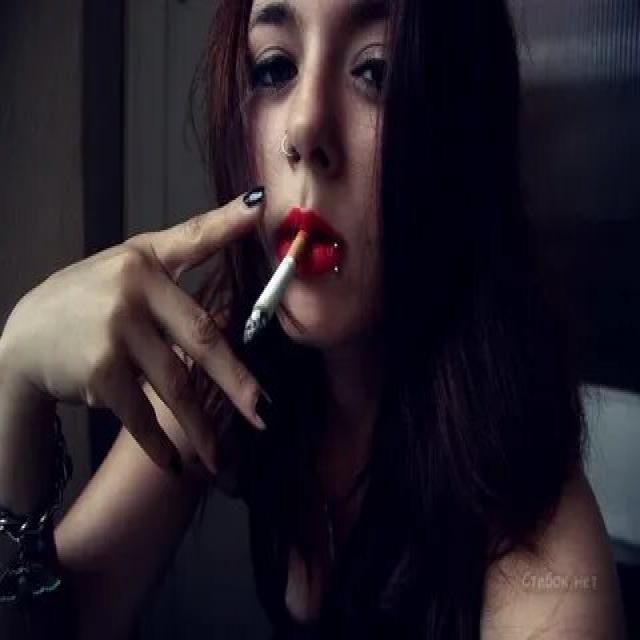cigarette: (240, 222, 313, 348)
